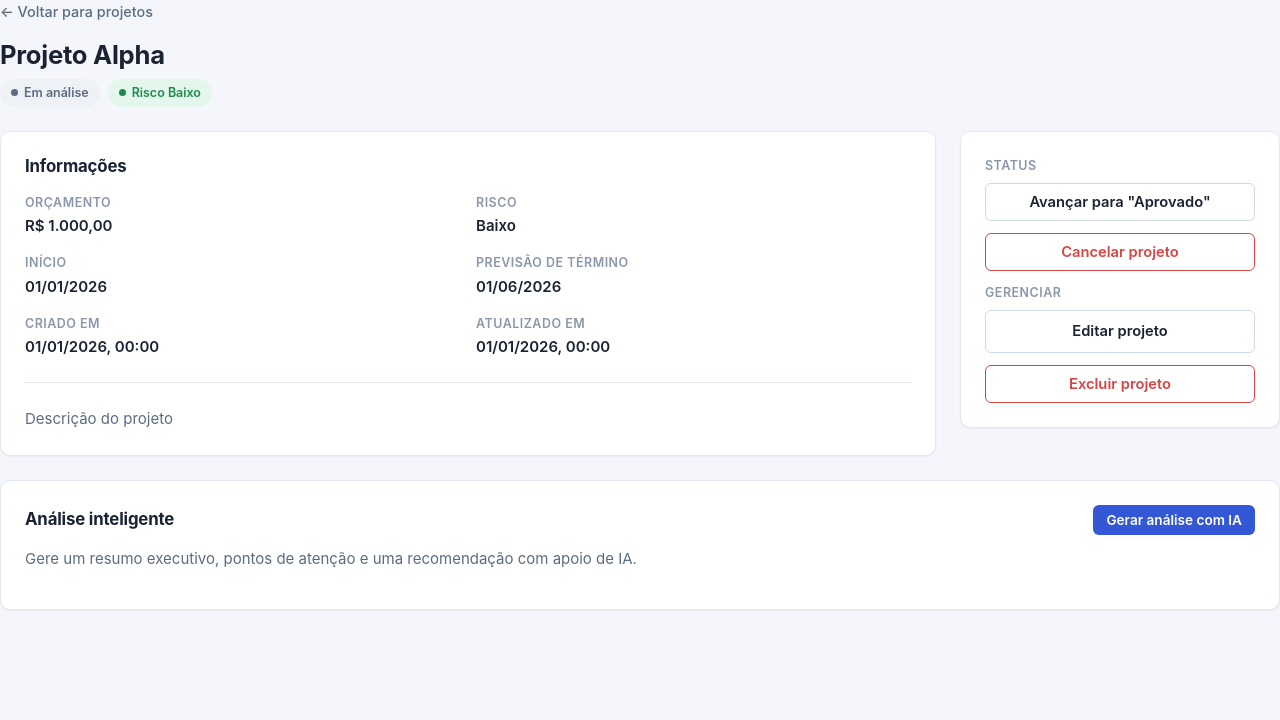
Test: ProjectDetailPage › gera e exibe a análise de IA
Expected: the heading "Projeto Alpha" is shown, [0,39,165,70]
Click the button "Gerar análise com IA": [1174, 520] box [1093,505,1255,535]
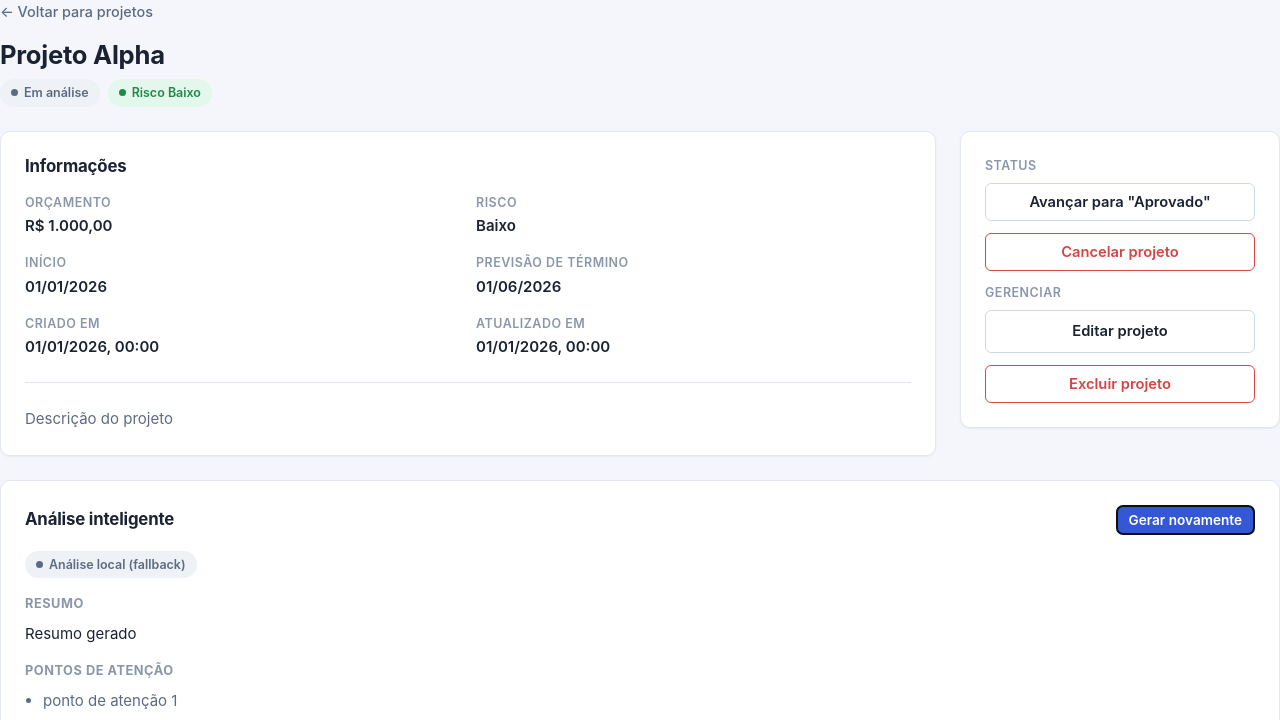
Now the text "Resumo gerado" is shown, box [25,624,136,643]
Now the list item "ponto de atenção 1" is shown, box [43,691,177,710]
Now the text "Análise local (fallback)" is shown, box [25,551,197,578]
